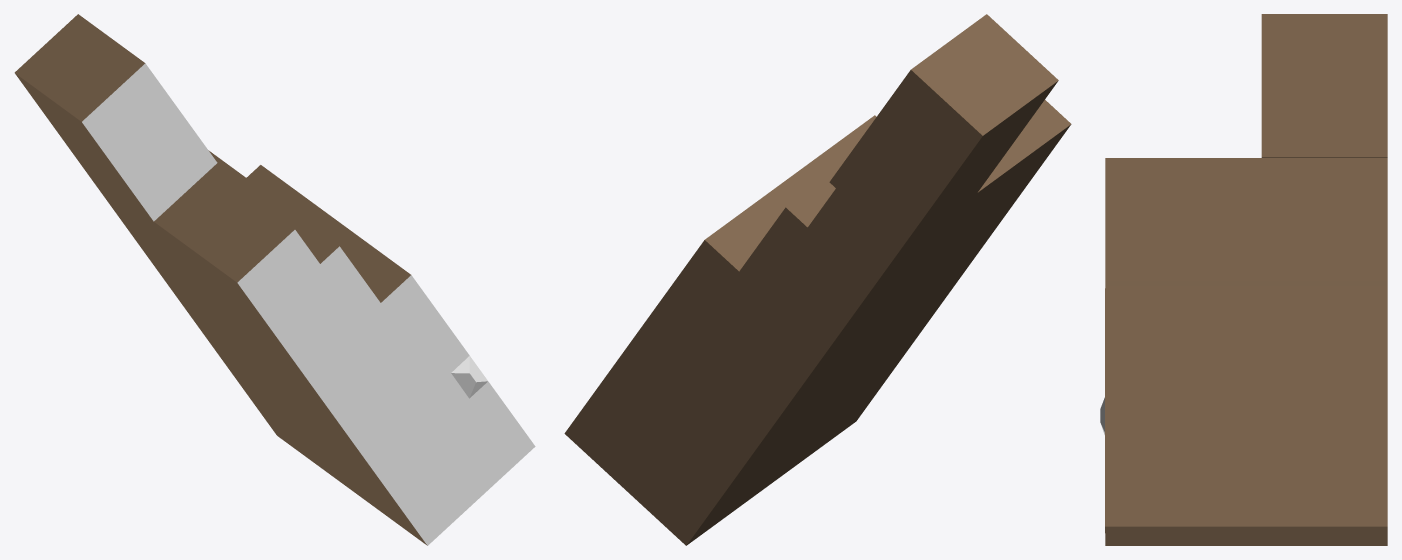
3 renders of one model, left to right at view 1: azimuth 30°, elevation 25°; view 2: azimuth 150°, elevation 25°; view 3: azimuth 270°, elevation 25°, orthographic. The views are drawn at different scales.
Parts seen in each view (by area): view 1: City_1884461; view 2: City_1884461; view 3: City_1884461.
Part boxes in pixels (x1=…): City_1884461: x1=14, y1=14, x2=535, y2=545; City_1884461: x1=564, y1=14, x2=1071, y2=545; City_1884461: x1=1100, y1=14, x2=1387, y2=545.
Bounding box in the file's own units: 2005 × 2432 × 1438.
